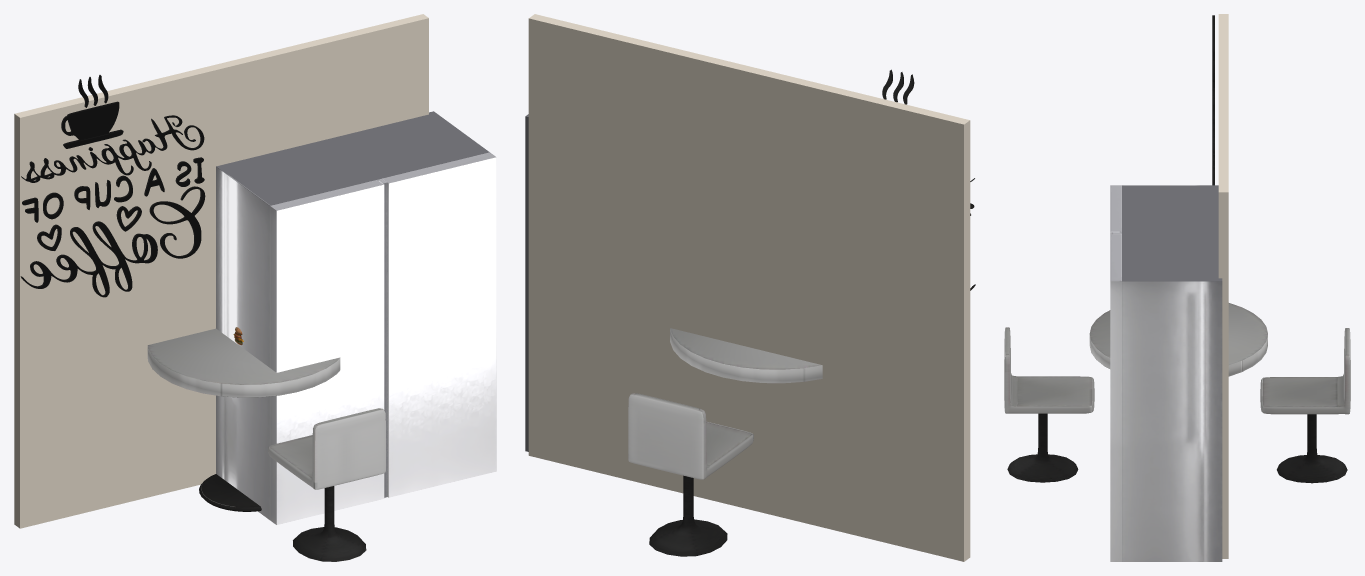
File: small_cafe_cheese_burger.glb
The picture shows the model from 3 angles, left to right: view 1: azimuth 30°, elevation 25°; view 2: azimuth 150°, elevation 25°; view 3: azimuth 270°, elevation 25°; orthographic projection. The views are drawn at different scales.
Parts seen in each view (by area): view 1: IRMOS_Back_Wall, IRMOS_Fridge_3, IRMOS_Fridge_2, IRMOS_Fridge_1, IRMOS_Dining_Furniture, IRMOS_Cafe_Sign; view 2: IRMOS_Back_Wall, IRMOS_Dining_Furniture, IRMOS_Fridge_1; view 3: IRMOS_Fridge_1, IRMOS_Dining_Furniture, IRMOS_Back_Wall, IRMOS_Fridge_3, IRMOS_Fridge_2, IRMOS_Cafe_Sign.
Part boxes in pixels (x1,y1,x2,y2): IRMOS_Back_Wall: (14, 14, 428, 528); IRMOS_Fridge_3: (380, 152, 496, 497); IRMOS_Fridge_2: (270, 179, 385, 524); IRMOS_Fridge_1: (216, 111, 489, 519); IRMOS_Dining_Furniture: (147, 328, 385, 561); IRMOS_Cafe_Sign: (20, 75, 205, 297); IRMOS_Back_Wall: (528, 14, 970, 561); IRMOS_Dining_Furniture: (628, 328, 822, 556); IRMOS_Fridge_1: (525, 114, 528, 451); IRMOS_Fridge_1: (1122, 185, 1222, 561); IRMOS_Dining_Furniture: (1004, 303, 1350, 483); IRMOS_Back_Wall: (1218, 14, 1228, 558); IRMOS_Fridge_3: (1110, 233, 1121, 561); IRMOS_Fridge_2: (1110, 185, 1121, 234); IRMOS_Cafe_Sign: (1212, 15, 1214, 185).
Size of the model in its own units: 2.55 by 2.56 by 2.06.
Materials: 7 (3 with a texture image).
